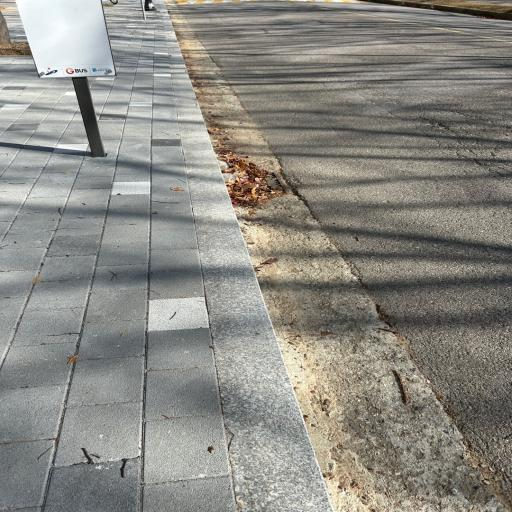debris: (228, 171, 271, 196), (271, 186, 282, 193)
drain: (228, 171, 284, 198)
